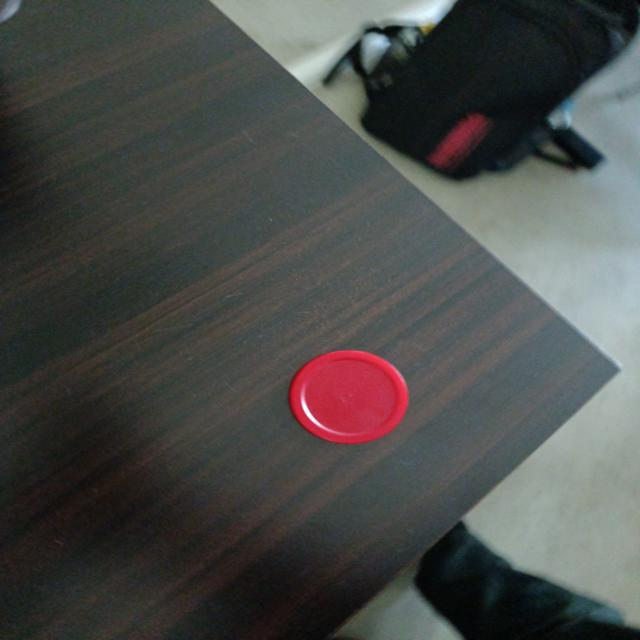chip: (287, 348, 411, 446)
